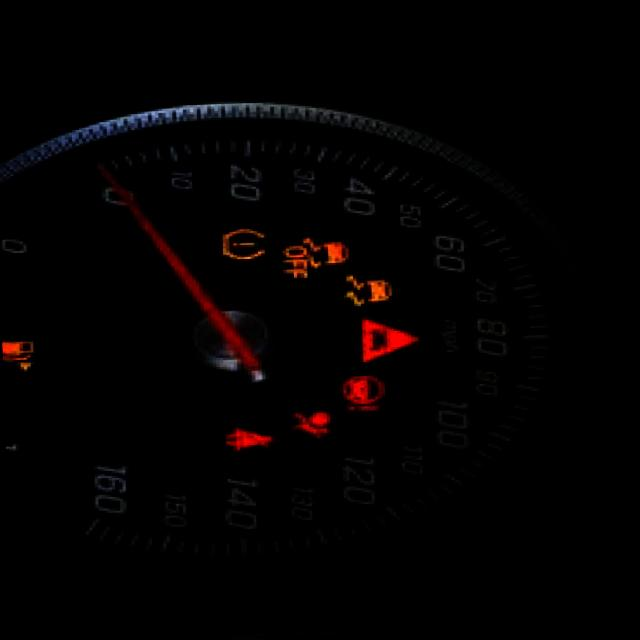kontrolka: (277, 234, 355, 280), (336, 369, 392, 413), (338, 270, 402, 308), (216, 223, 272, 265), (284, 404, 339, 444), (4, 333, 43, 372)
